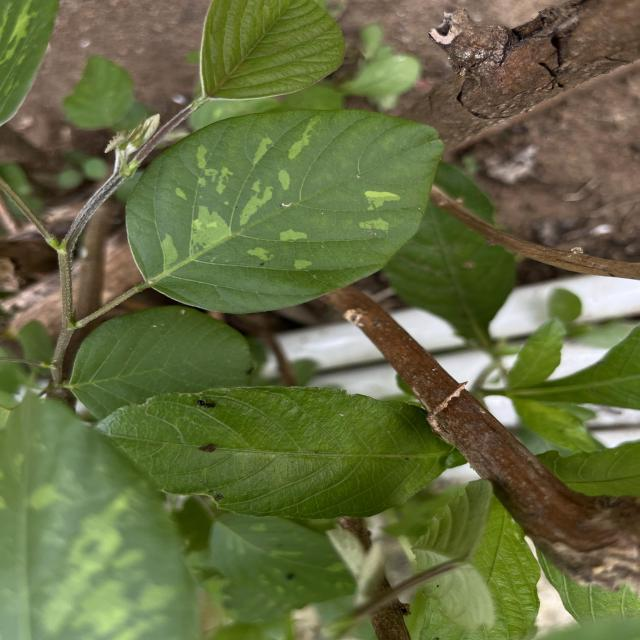Desmodium gangeticum: (122, 106, 449, 318)
